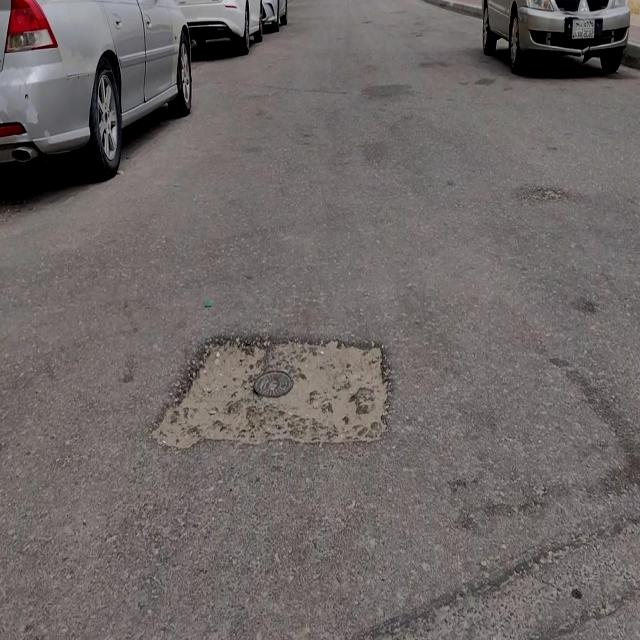Potholes: (148, 327, 394, 454)
